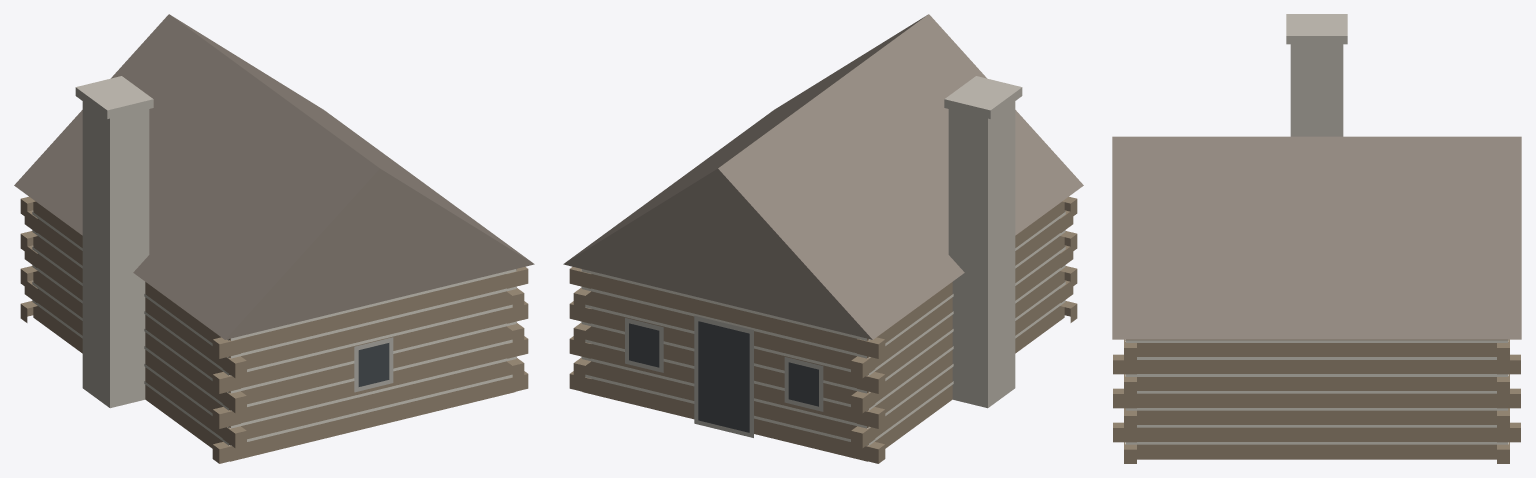
The model's file is recon_1835_blk_lake_market_d1_05__inferred_1835.glb.
3 views of the same model, side by side, from view 1: azimuth 30°, elevation 25°; view 2: azimuth 150°, elevation 25°; view 3: azimuth 270°, elevation 25° (orthographic). The views are drawn at different scales.
Parts seen in each view (by area): view 1: recon_1835_blk_lake_market_d1_05__inferred_1835; view 2: recon_1835_blk_lake_market_d1_05__inferred_1835; view 3: recon_1835_blk_lake_market_d1_05__inferred_1835.
Boxes of the visible parts, x1,y1,x2,y2 form: recon_1835_blk_lake_market_d1_05__inferred_1835: (14,14,534,463); recon_1835_blk_lake_market_d1_05__inferred_1835: (563,14,1083,463); recon_1835_blk_lake_market_d1_05__inferred_1835: (1112,14,1521,463).
Bounding box in the file's own units: 6.87 × 5.91 × 7.43.
